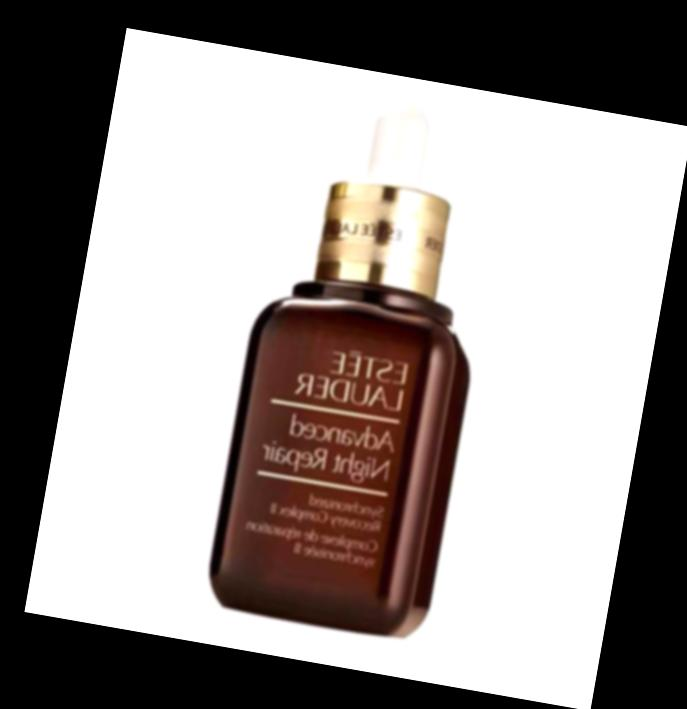cosmetic: (202, 75, 505, 634)
